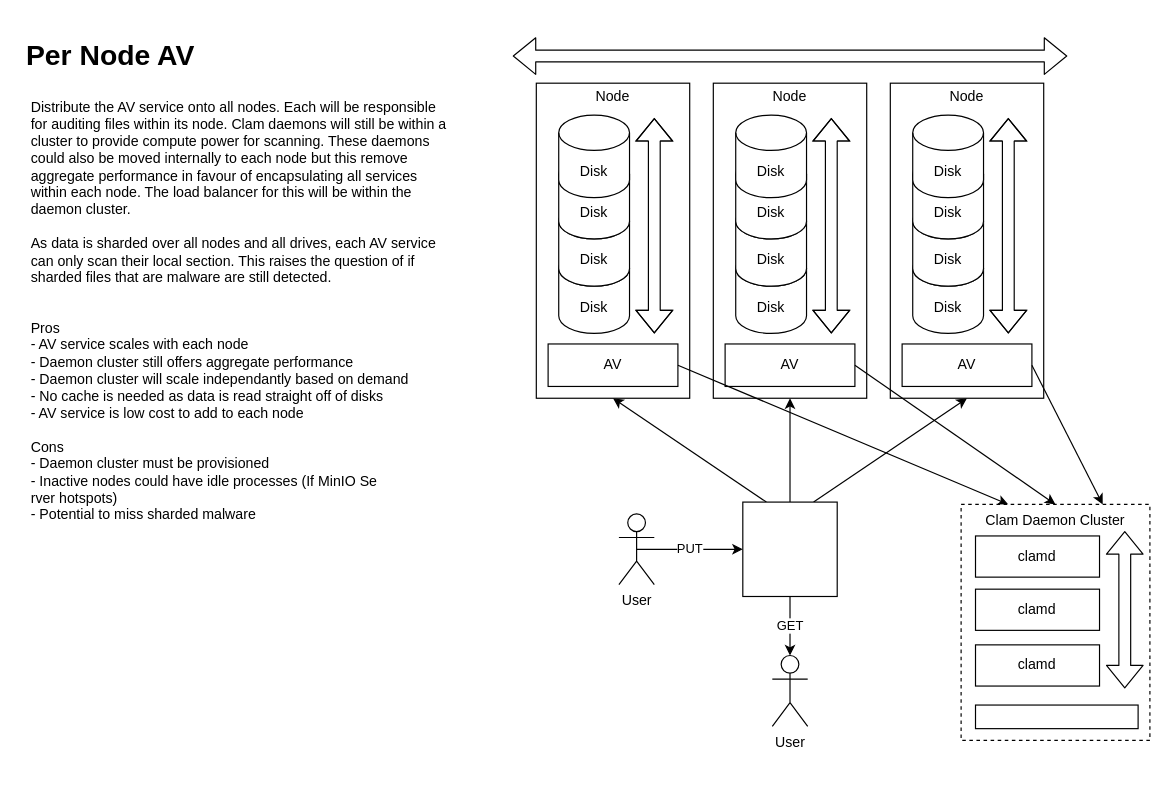
Some shapes in this 1171 by 795 pixel diagram are drawn without their labels. Each missing label, with the centre of its shape:
Load Balancer: point 1056,716
MinIO Server: point 789,548
